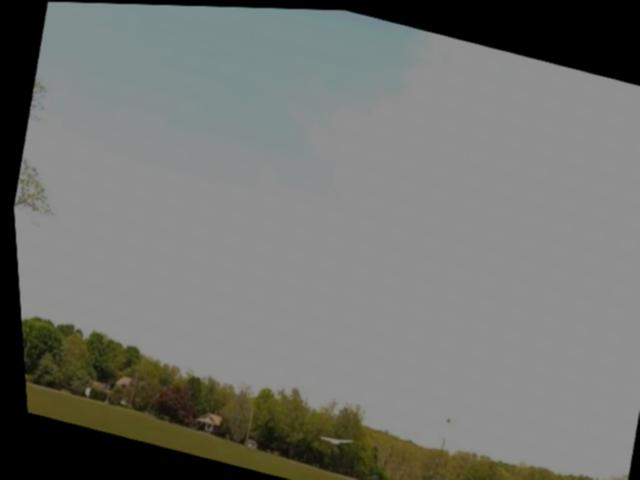iha: (313, 427, 348, 447)
